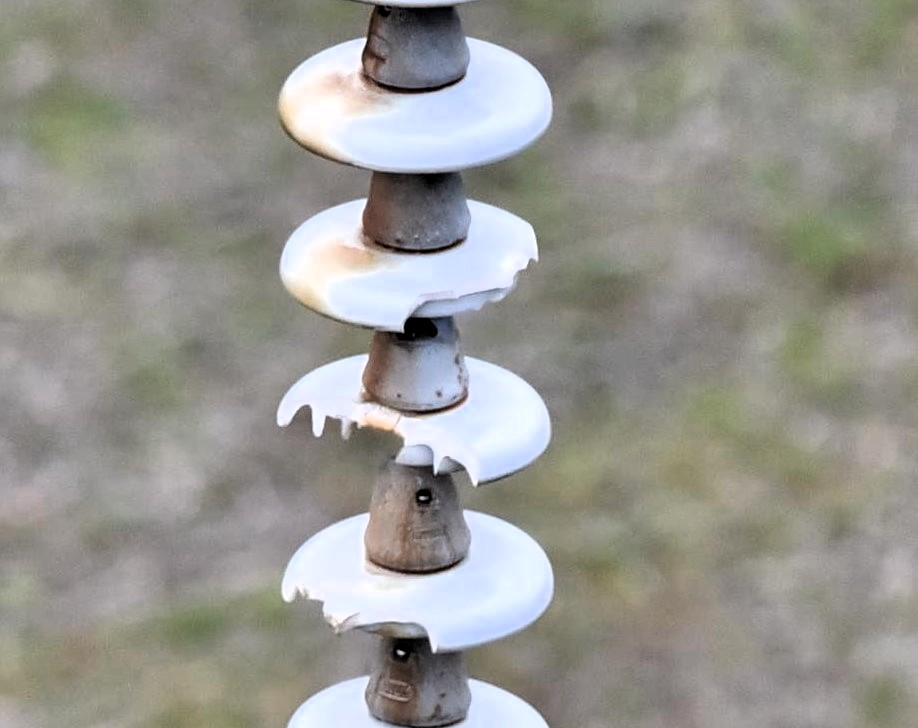insulator breakage: (274, 503, 558, 659), (278, 196, 548, 337), (272, 351, 555, 485)
